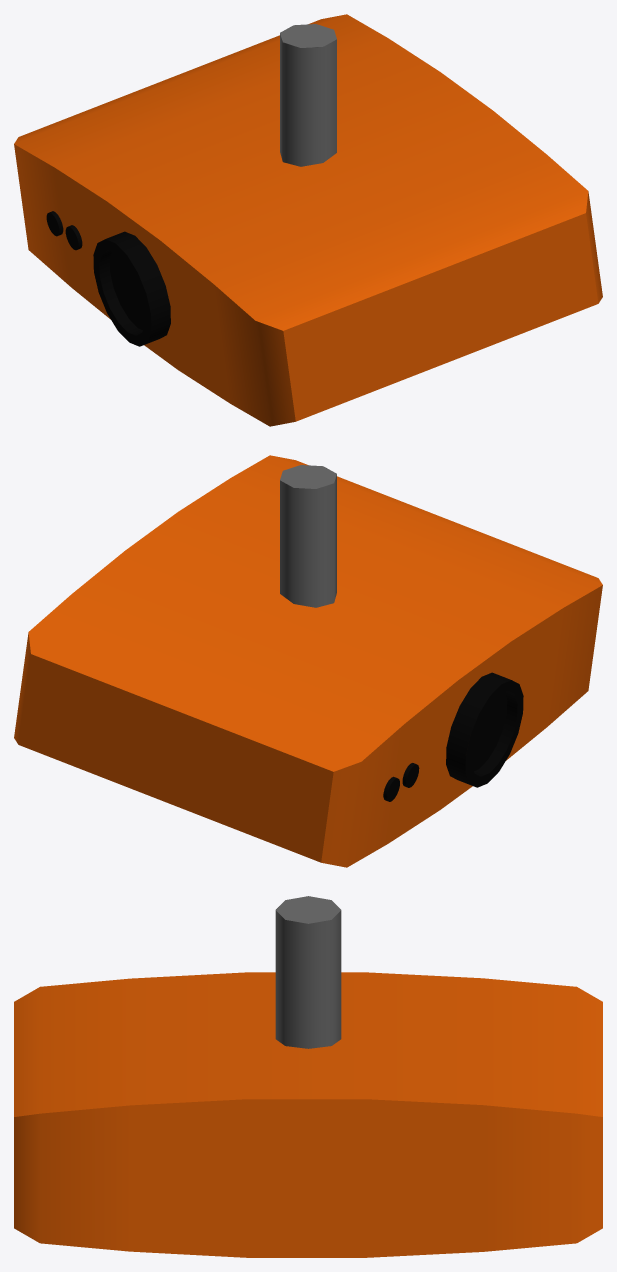
The model's file is Elec_projector.fbx.
The picture shows the model from 3 angles, top to bottom: view 1: azimuth 30°, elevation 25°; view 2: azimuth 150°, elevation 25°; view 3: azimuth 270°, elevation 25°; orthographic projection. The views are drawn at different scales.
Parts seen in each view (by area): view 1: Cylinder.003; view 2: Cylinder.003; view 3: Cylinder.003.
Boxes of the visible parts, x1=… form: Cylinder.003: x1=14, y1=14, x2=602, y2=426; Cylinder.003: x1=14, y1=455, x2=602, y2=867; Cylinder.003: x1=14, y1=896, x2=602, y2=1257.
Size of the model in its own units: 161 by 115 by 200.
Materials: 1 (1 with a texture image).
